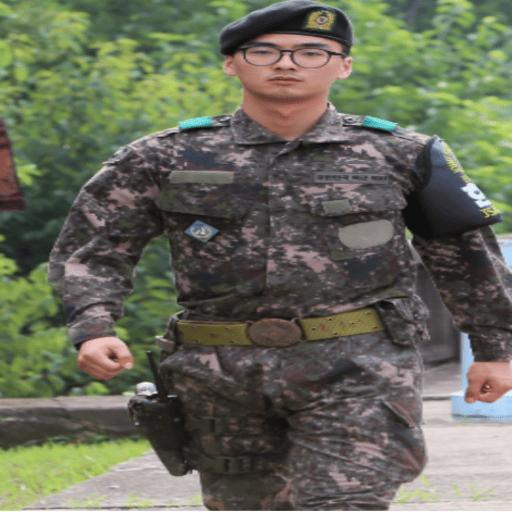korea army: (46, 0, 510, 510)
